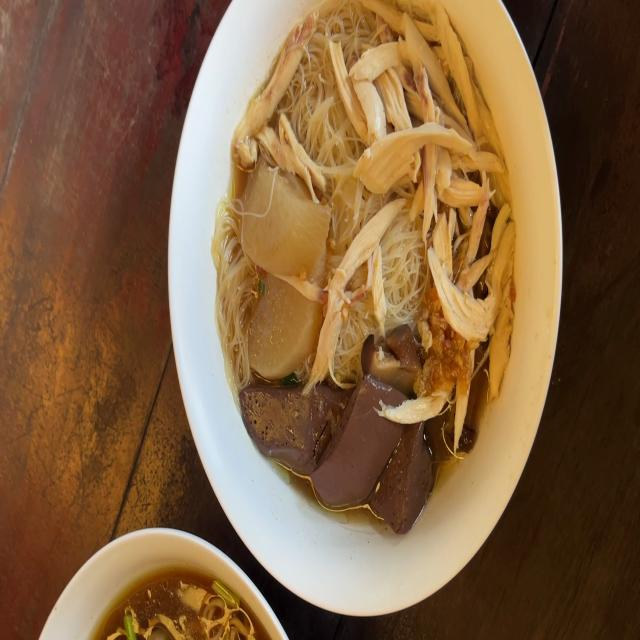noodle: (237, 382, 352, 483), (316, 380, 398, 497), (384, 430, 426, 529)
